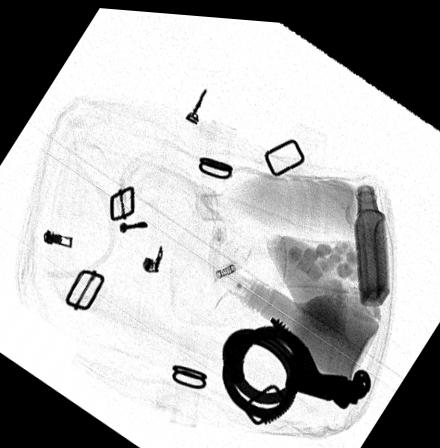HandCuffs: (221, 310, 371, 420)
